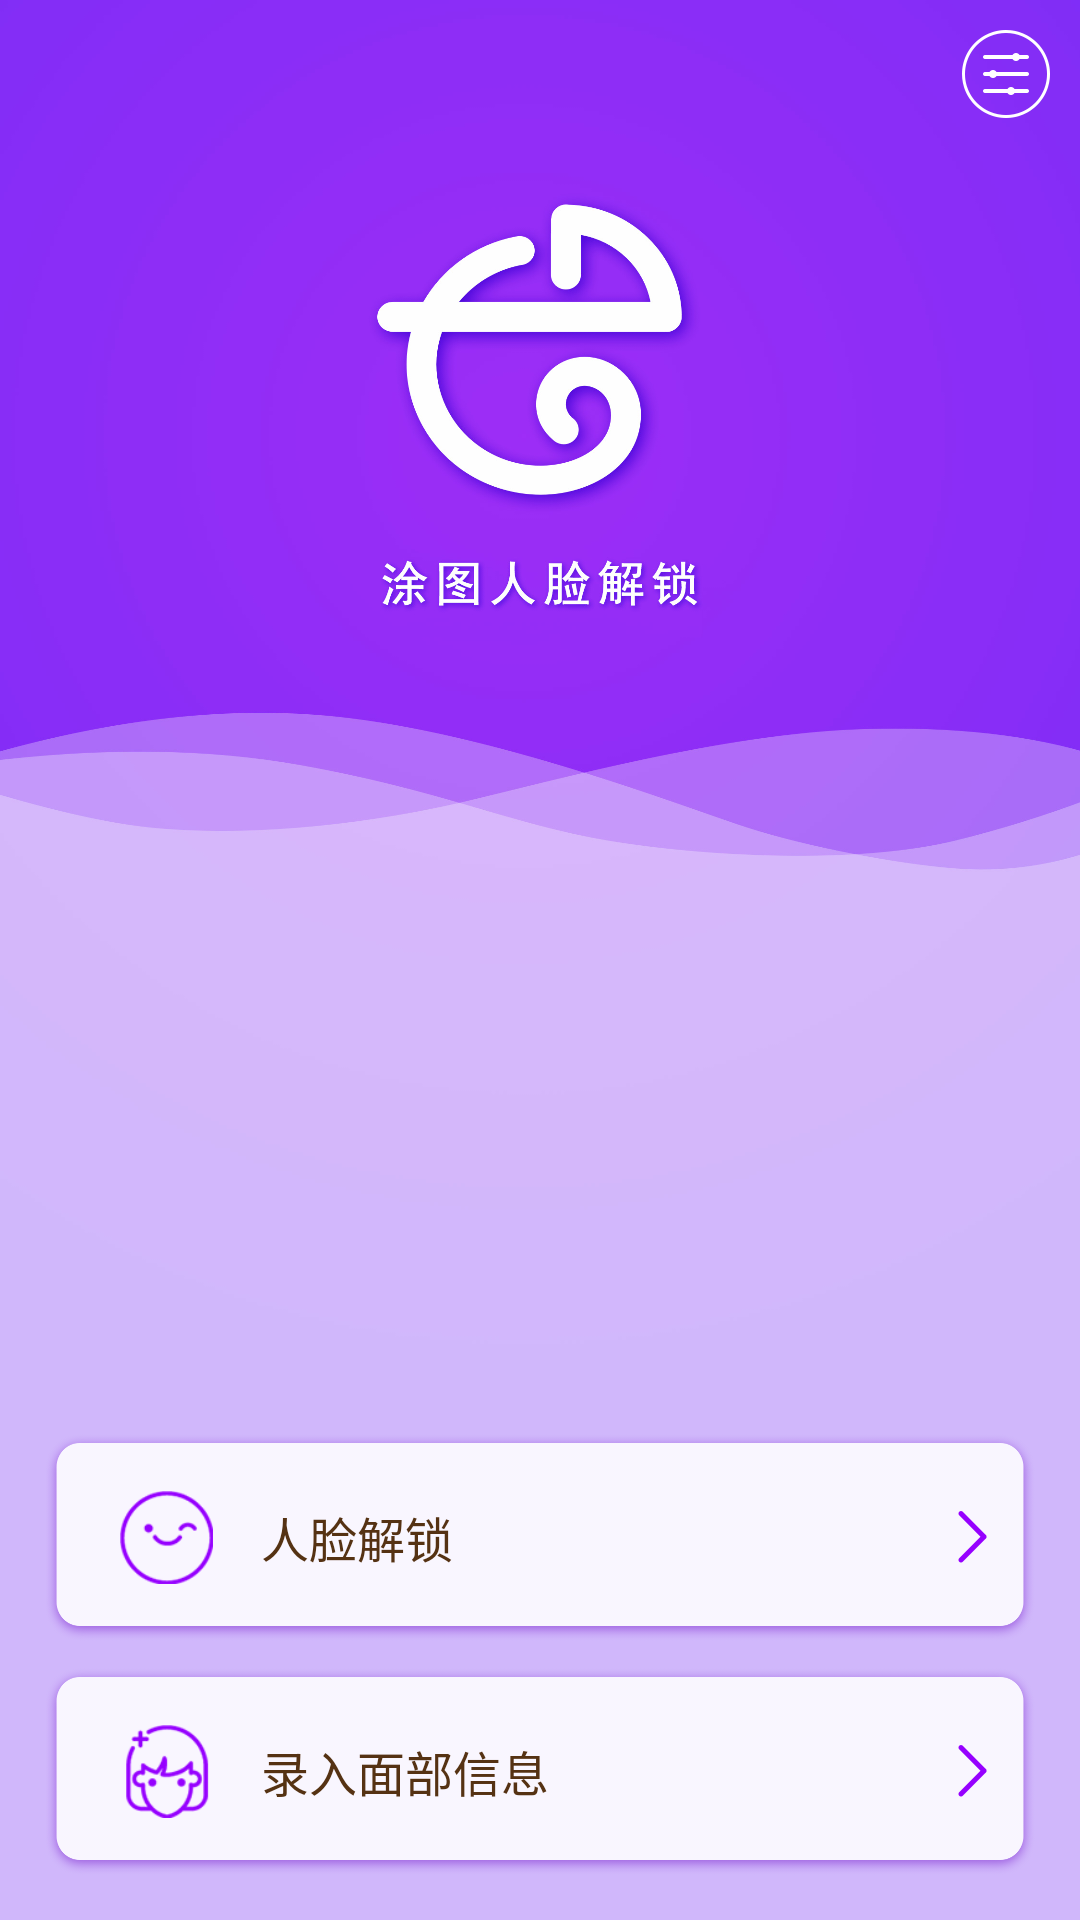

Named icons in this screenshot (1080 × 1920) and their bounding boxes, [x1,y1,x2,y2]:
lsq homepage next: [958,1511,987,1563], [958,1745,987,1797]
lsq homepage setting: [962,30,1050,118]
